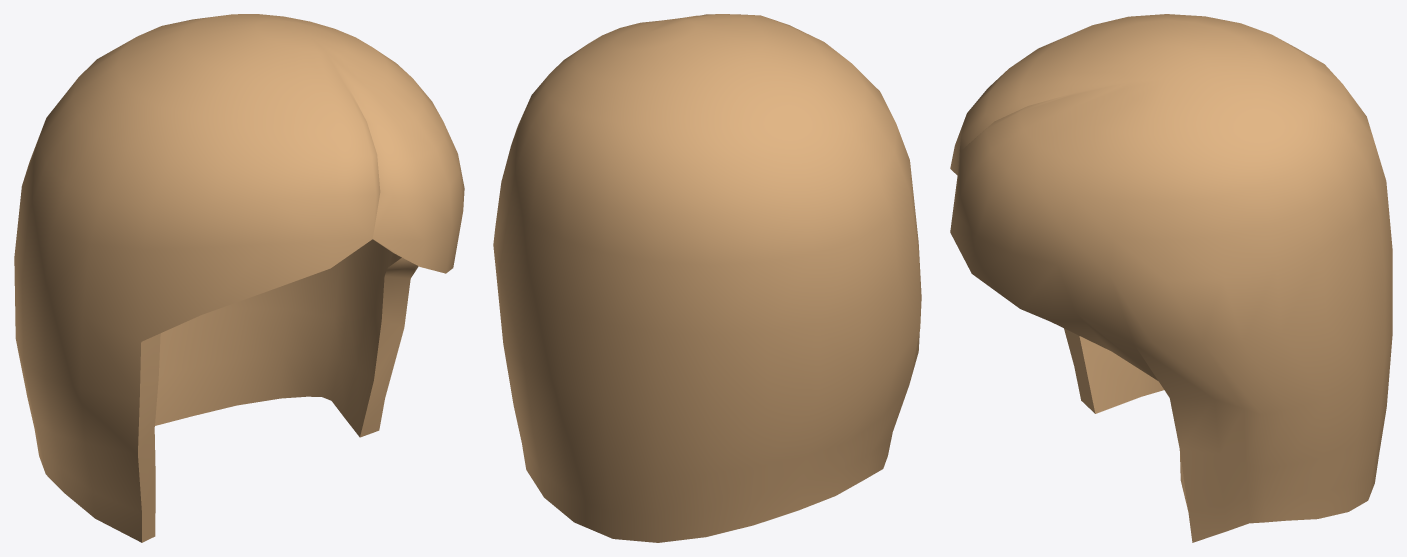
Rendered from rogueHairB.fbx.
The picture shows the model from 3 angles, left to right: view 1: azimuth 30°, elevation 25°; view 2: azimuth 150°, elevation 25°; view 3: azimuth 270°, elevation 25°; orthographic projection. The views are drawn at different scales.
Visible parts, largest first — view 1: rogueHairB; view 2: rogueHairB; view 3: rogueHairB.
Boxes of the visible parts, bbox=[...] form: rogueHairB: bbox=[14, 14, 464, 542]; rogueHairB: bbox=[493, 14, 921, 542]; rogueHairB: bbox=[950, 14, 1392, 542].
Bounding box in the file's own units: 1.12 × 1.22 × 1.09.
